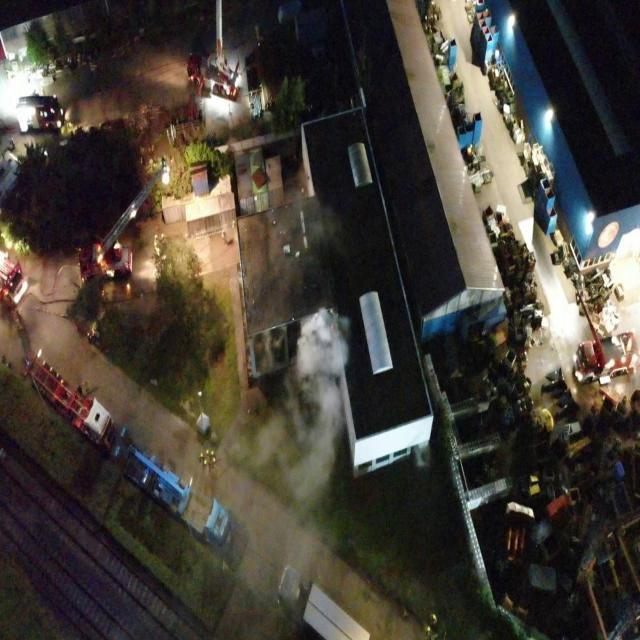Smoke: (246, 306, 352, 508), (266, 167, 345, 271), (412, 440, 430, 470)
